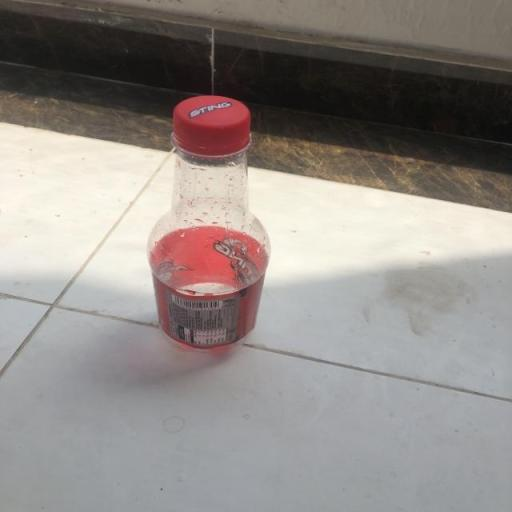plastic: (150, 90, 271, 360)
